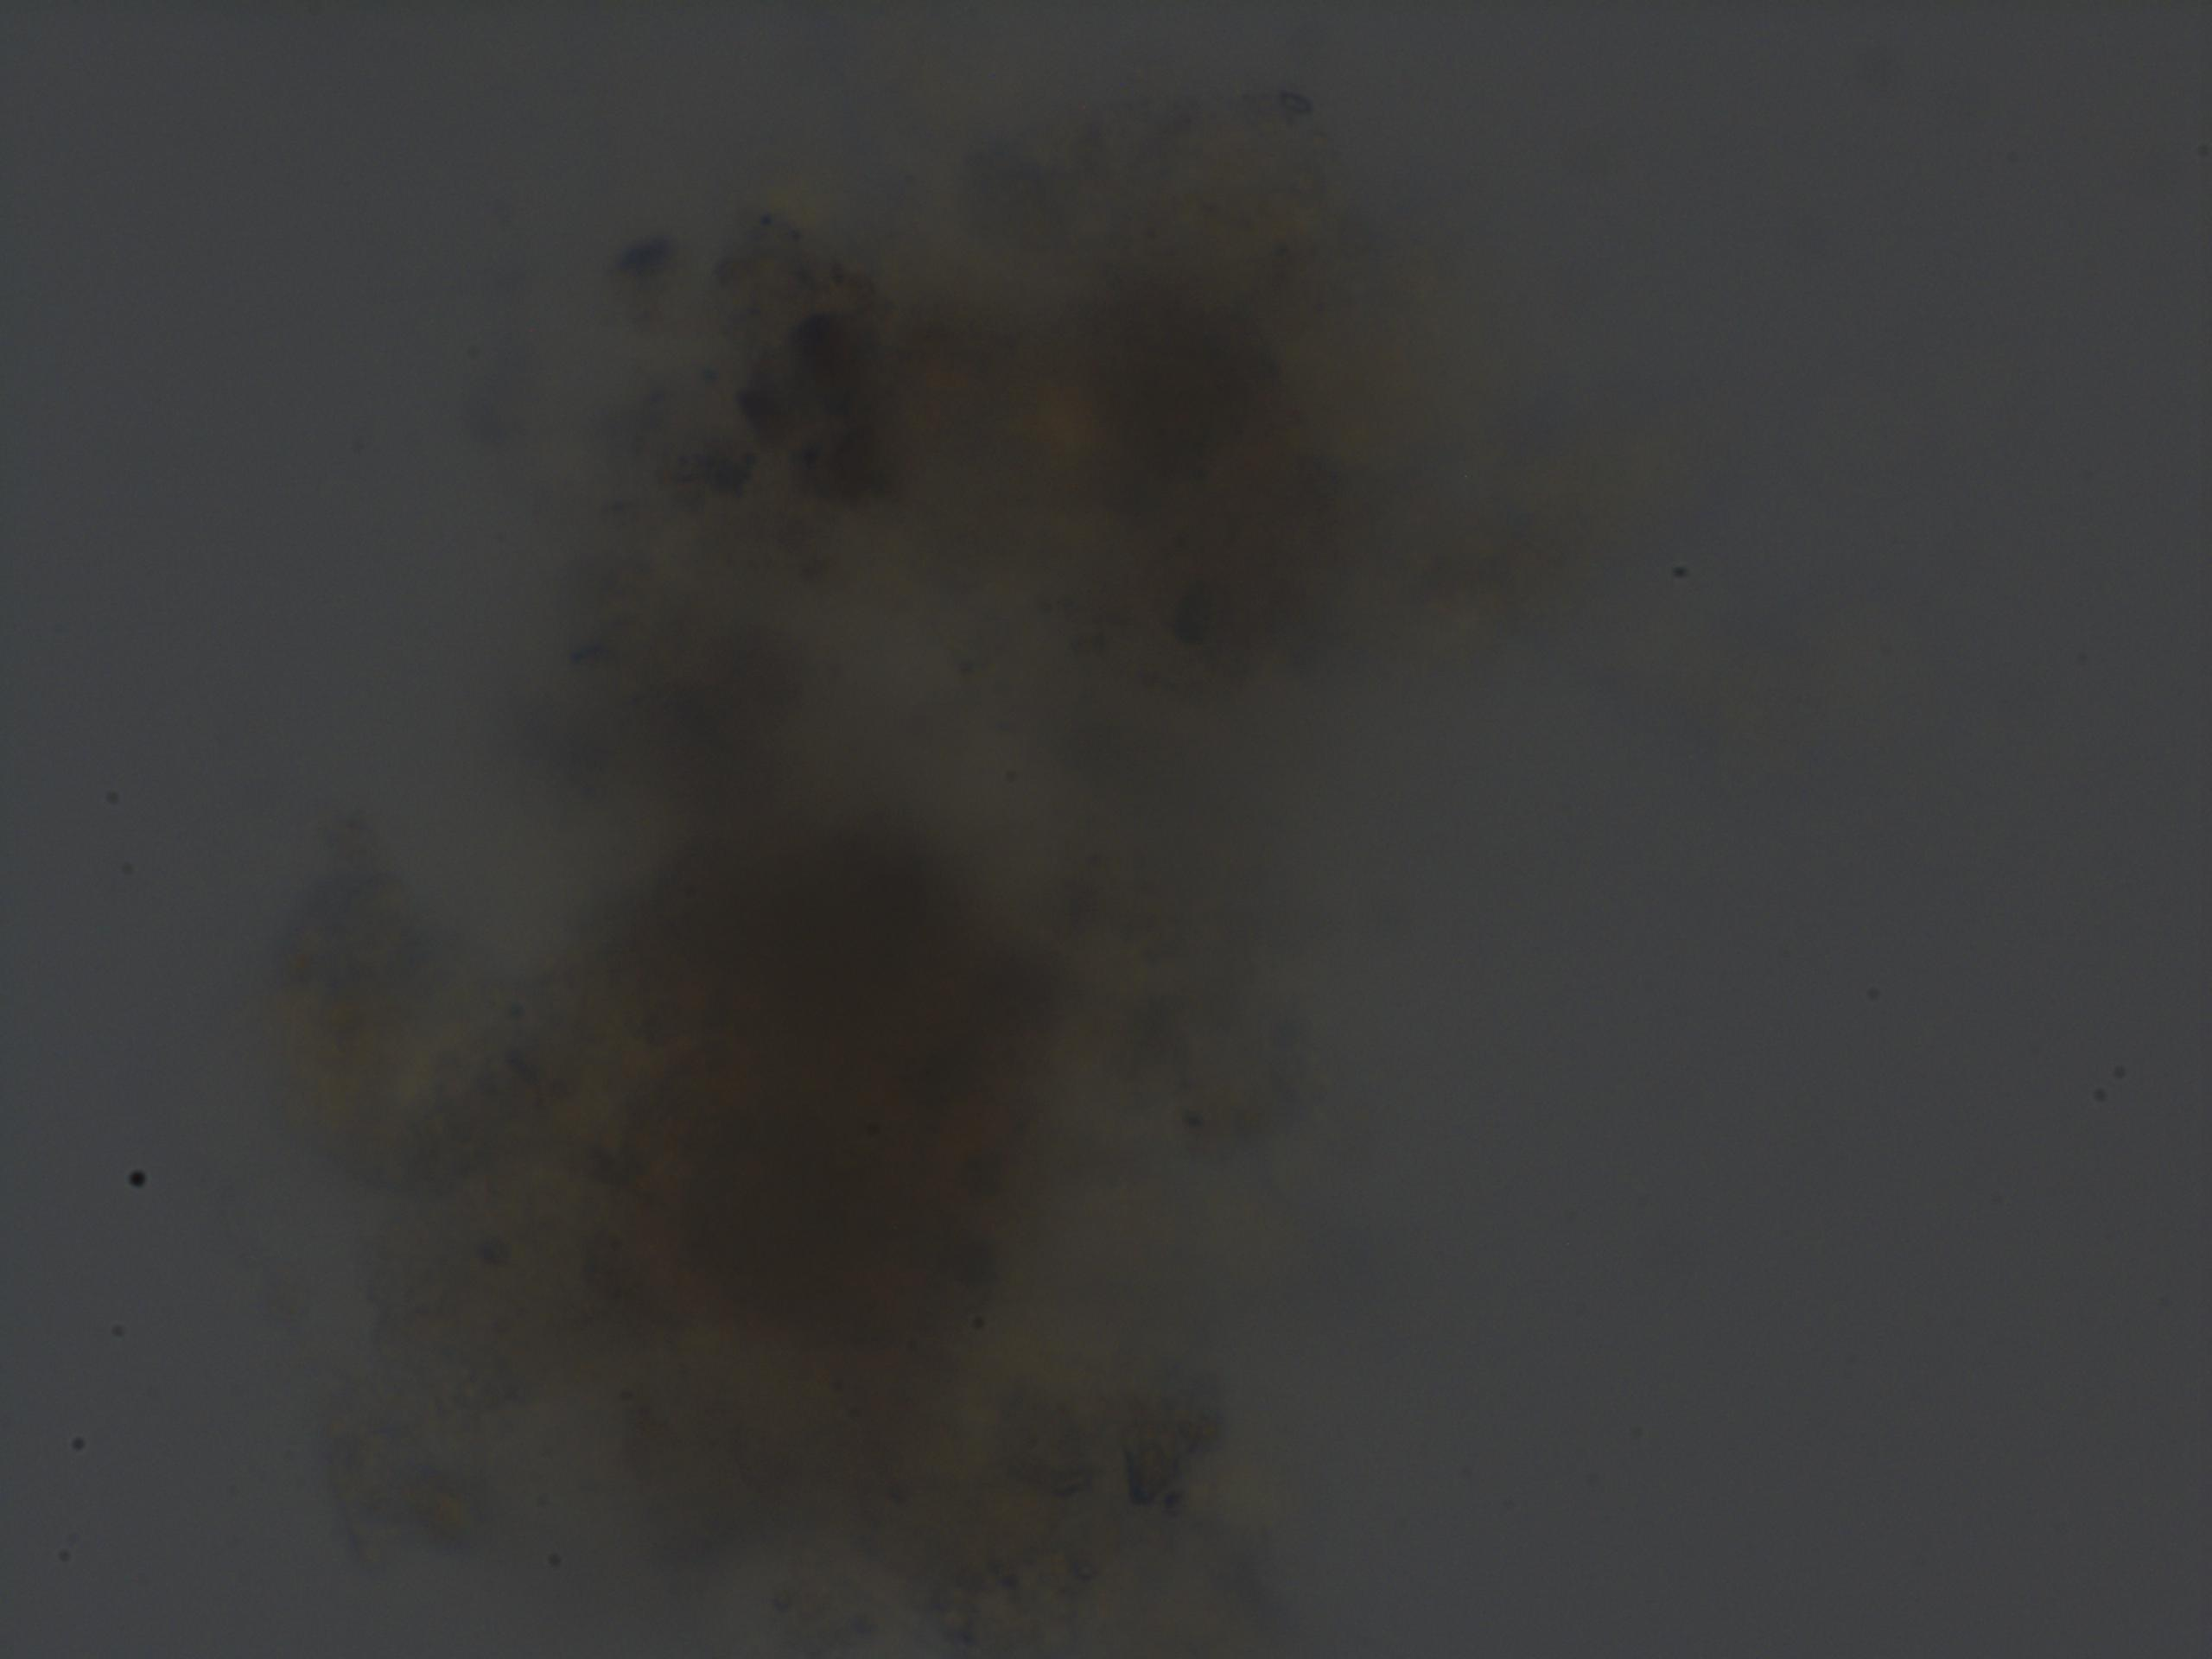open_floc: (253, 99, 1562, 1659)
